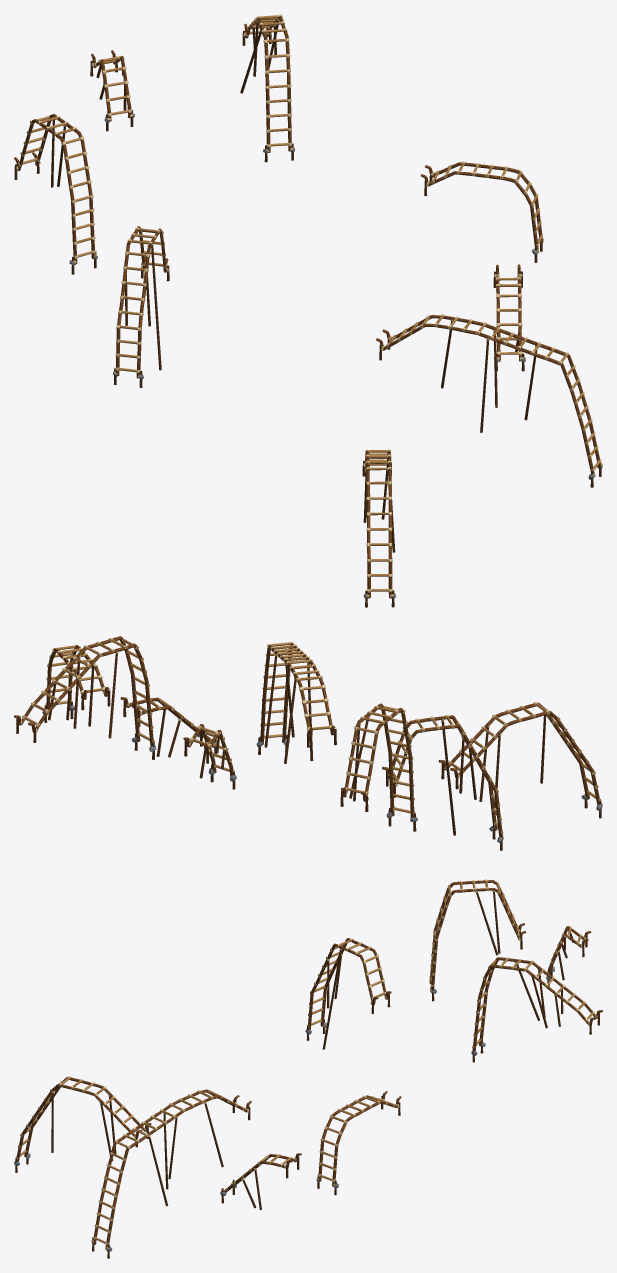
Rendered from cliff_ladders.glb.
3 renders of one model, top to bottom at view 1: azimuth 30°, elevation 25°; view 2: azimuth 150°, elevation 25°; view 3: azimuth 270°, elevation 25°, orthographic. The views are drawn at different scales.
Visible parts, largest first — view 1: CliffLadderTimber, CliffLadderRope; view 2: CliffLadderTimber, CliffLadderRope, CliffLadderRocks; view 3: CliffLadderTimber, CliffLadderRope.
Part boxes in pixels (x1,y1,x2,y2): CliffLadderTimber: (14, 15, 601, 607); CliffLadderRope: (15, 14, 602, 597); CliffLadderTimber: (14, 636, 601, 850); CliffLadderRope: (18, 638, 602, 839); CliffLadderRocks: (42, 705, 602, 842); CliffLadderTimber: (15, 880, 602, 1258); CliffLadderRope: (14, 879, 597, 1249).
Size of the model in its own units: 13.99 by 10.07 by 19.09.
